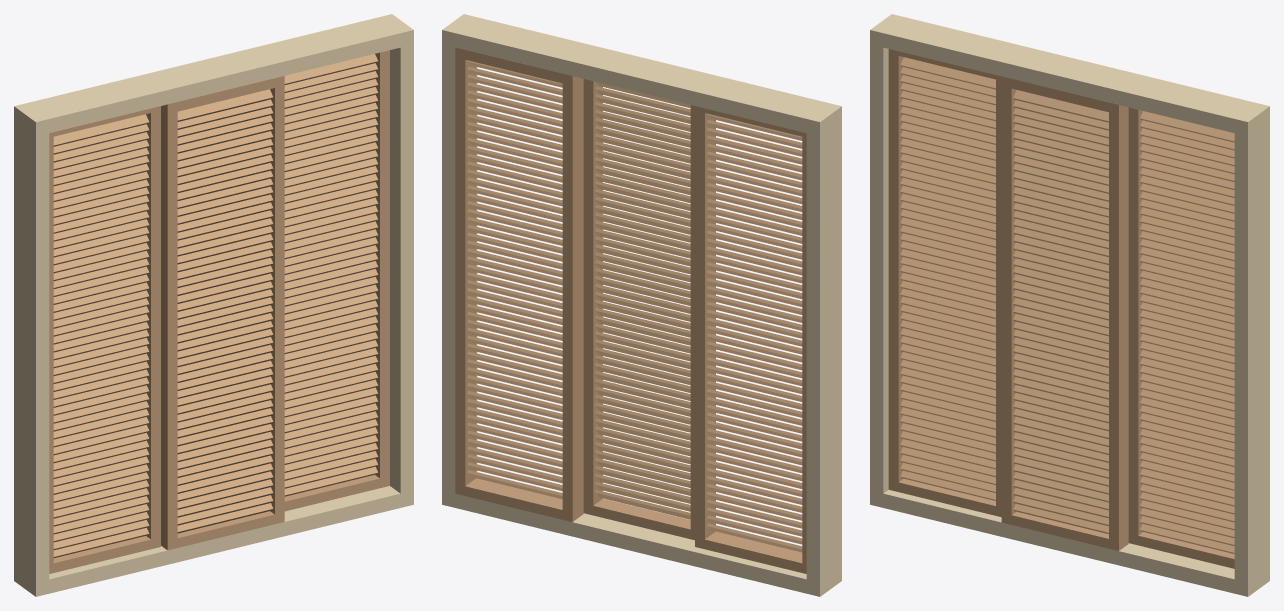
File: Wall_Door03.fbx
The picture shows the model from 3 angles, left to right: view 1: azimuth 30°, elevation 25°; view 2: azimuth 150°, elevation 25°; view 3: azimuth 330°, elevation 25°; orthographic projection.
Visible parts, largest first — view 1: Door2, Door, Frame, Door3; view 2: Door3, Door2, Door, Frame; view 3: Door2, Door, Door3, Frame.
Boxes of the visible parts, x1=… form: Door2: x1=161, y1=76, x2=284, y2=550; Door: x1=49, y1=106, x2=160, y2=573; Frame: x1=14, y1=14, x2=413, y2=596; Door3: x1=284, y1=50, x2=389, y2=511; Door3: x1=455, y1=47, x2=583, y2=521; Door2: x1=583, y1=79, x2=694, y2=540; Door: x1=695, y1=106, x2=806, y2=573; Frame: x1=442, y1=14, x2=841, y2=596; Door2: x1=1001, y1=76, x2=1128, y2=550; Door: x1=888, y1=49, x2=1001, y2=517; Door3: x1=1128, y1=107, x2=1234, y2=568; Frame: x1=870, y1=14, x2=1269, y2=596.
Bounding box in the file's own units: 2 × 2.4 × 0.2.
